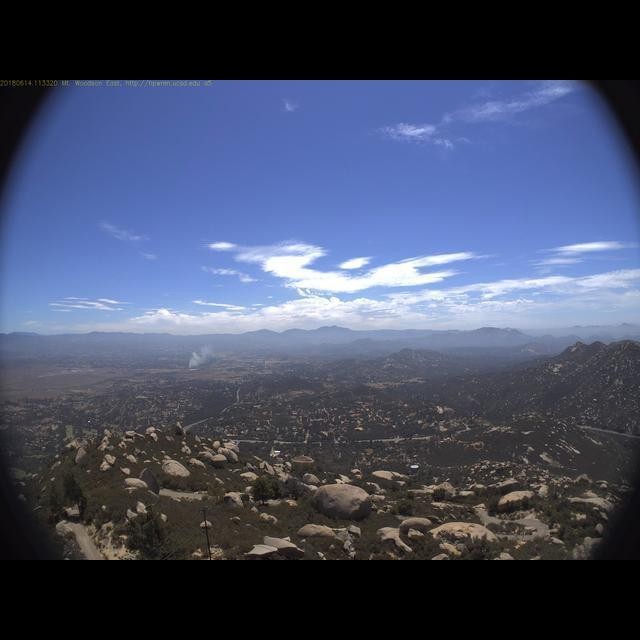Smoke: (184, 334, 225, 372)
